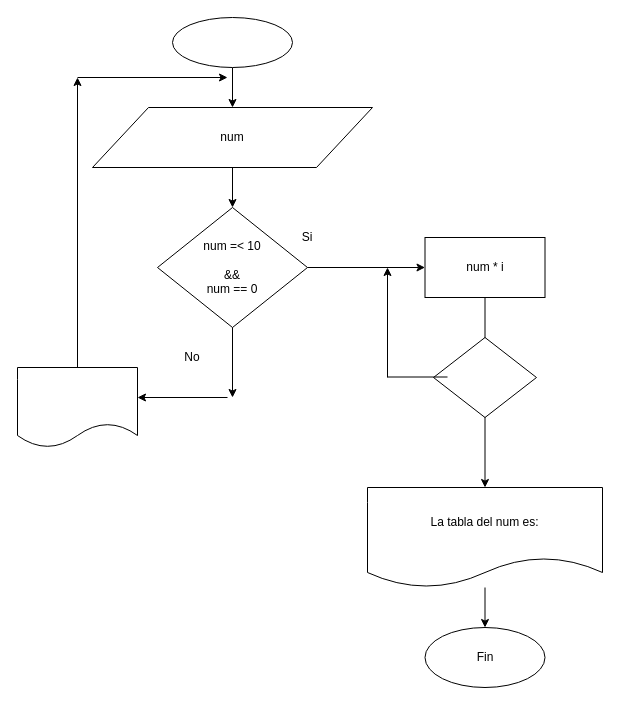
Some shapes in this 620 by 705 pixel diagram are drawn without their labels. Each missing label, with the centre of its shape:
"El numero ingresado es incorrecto." goes at (77,407).
"If ( i <=12) i + 1" goes at (484,377).
"Inicio" goes at (232,42).
